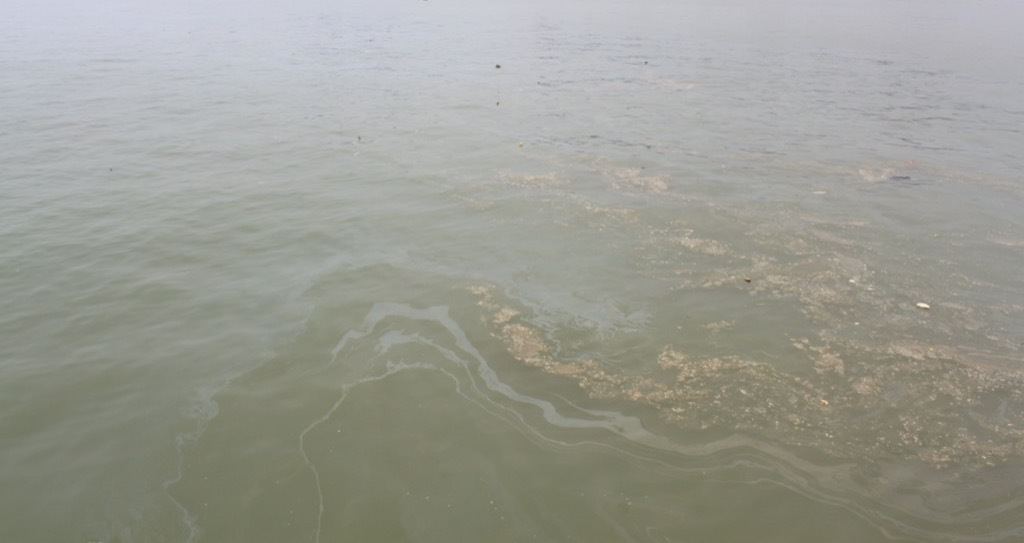organic: (348, 128, 367, 149), (491, 94, 507, 113), (637, 56, 654, 71), (492, 56, 505, 75), (99, 164, 119, 176)
plastic: (900, 287, 947, 327), (731, 261, 773, 302), (505, 129, 538, 160)
